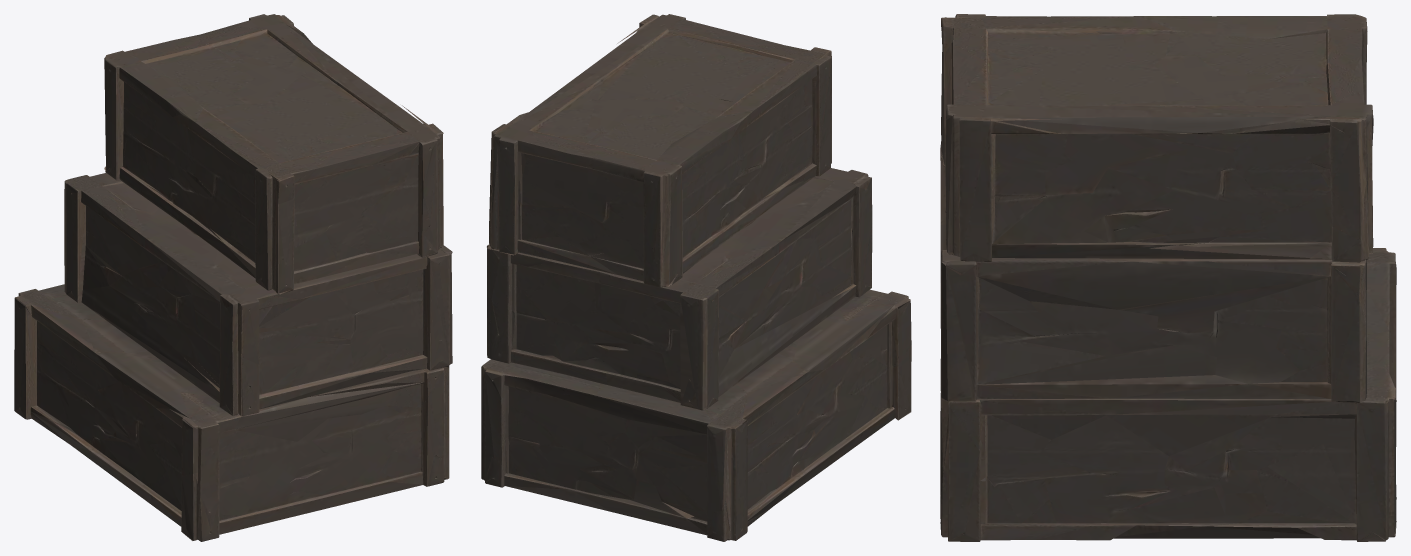
The model's file is crates.glb.
3 views of the same model, side by side, from view 1: azimuth 30°, elevation 25°; view 2: azimuth 150°, elevation 25°; view 3: azimuth 270°, elevation 25° (orthographic). The views are drawn at different scales.
Size of the model in its own units: 1.52 by 1.9 by 1.86.
1 material, 1 textured.
